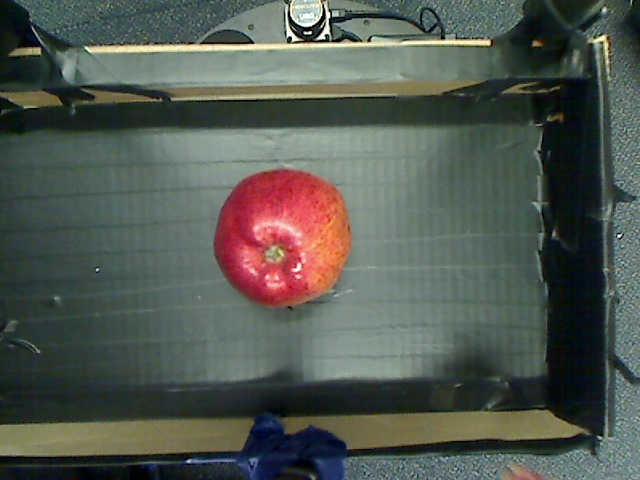apple: (205, 163, 362, 316)
